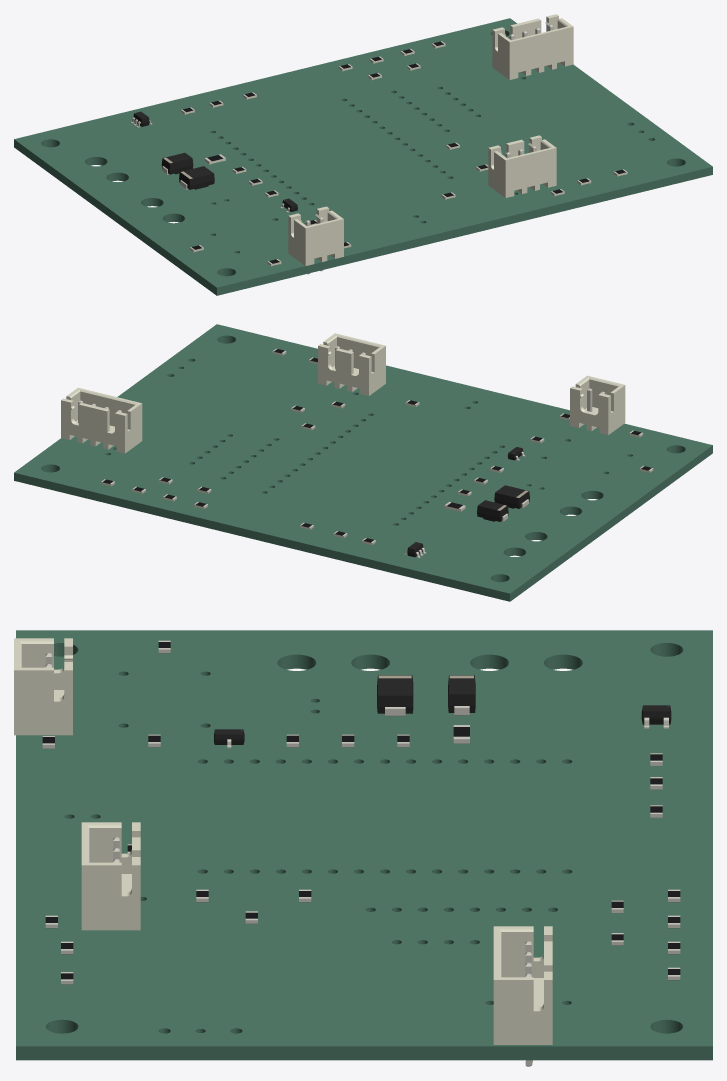
Rendered from flightcore.glb.
The picture shows the model from 3 angles, top to bottom: view 1: azimuth 30°, elevation 25°; view 2: azimuth 150°, elevation 25°; view 3: azimuth 270°, elevation 25°; orthographic projection. The views are drawn at different scales.
Visible parts, largest first — view 1: =>[0:1:1:20], =>[0:1:1:7], =>[0:1:1:19], =>[0:1:1:9], =>[0:1:1:11], =>[0:1:1:15]; view 2: =>[0:1:1:20], =>[0:1:1:7], =>[0:1:1:19], =>[0:1:1:9], =>[0:1:1:11], =>[0:1:1:15]; view 3: =>[0:1:1:20], =>[0:1:1:7], =>[0:1:1:19], =>[0:1:1:9], =>[0:1:1:11], =>[0:1:1:15].
Boxes of the visible parts, <box> form: =>[0:1:1:20]: <box>14,18,712,295</box>; =>[0:1:1:7]: <box>492,14,573,79</box>; =>[0:1:1:19]: <box>488,135,556,197</box>; =>[0:1:1:9]: <box>288,206,343,274</box>; =>[0:1:1:11]: <box>179,166,214,189</box>; =>[0:1:1:15]: <box>161,152,193,174</box>; =>[0:1:1:20]: <box>14,324,712,601</box>; =>[0:1:1:7]: <box>61,387,142,453</box>; =>[0:1:1:19]: <box>318,333,385,395</box>; =>[0:1:1:9]: <box>570,375,625,435</box>; =>[0:1:1:11]: <box>494,485,529,508</box>; =>[0:1:1:15]: <box>477,500,508,522</box>; =>[0:1:1:20]: <box>16,630,712,1060</box>; =>[0:1:1:7]: <box>493,926,552,1066</box>; =>[0:1:1:19]: <box>81,822,140,930</box>; =>[0:1:1:9]: <box>14,638,72,735</box>; =>[0:1:1:11]: <box>377,675,413,716</box>; =>[0:1:1:15]: <box>448,675,475,715</box>.
Size of the model in its own units: 0.096 by 0.0104 by 0.0682.
